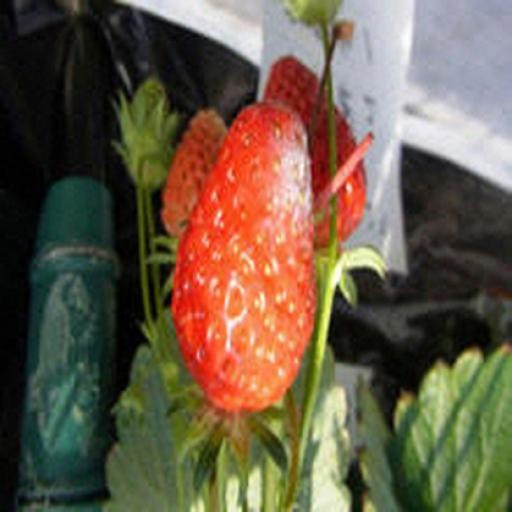Powdery Mildew Fruit: (250, 253, 315, 409)
